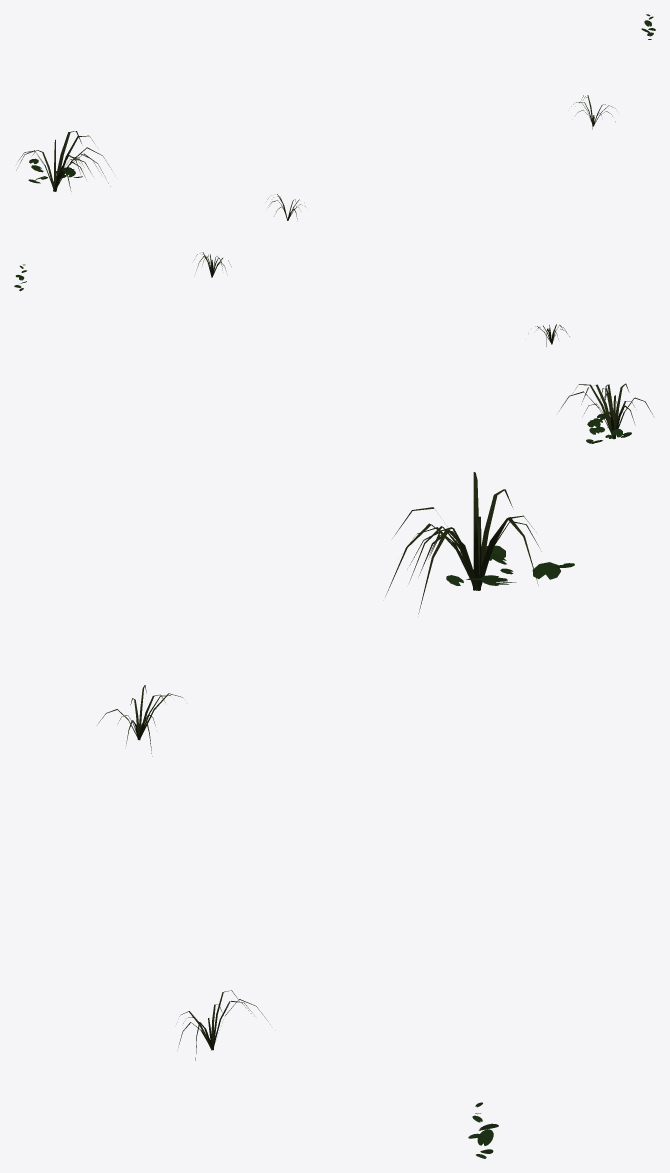
Rendered from weeds_-04+00_foliage.dae.
3 views of the same model, one above another, from view 1: azimuth 30°, elevation 25°; view 2: azimuth 150°, elevation 25°; view 3: azimuth 270°, elevation 25° (orthographic). The views are drawn at different scales.
Visible parts, largest first — view 1: weeds_-04+00_foliage; view 2: weeds_-04+00_foliage; view 3: weeds_-04+00_foliage.
Part boxes in pixels (bbox=[...]): weeds_-04+00_foliage: bbox=[16, 14, 655, 220]; weeds_-04+00_foliage: bbox=[14, 252, 654, 443]; weeds_-04+00_foliage: bbox=[98, 472, 574, 1158].
Bounding box in the file's own units: 2.59 × 0.8434 × 0.1998.
